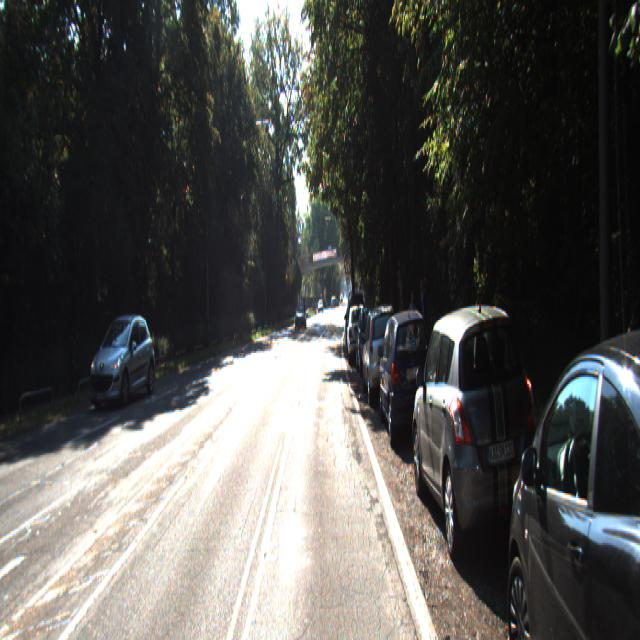Car: (500, 313, 640, 638), (410, 305, 548, 577), (378, 305, 436, 447), (88, 310, 156, 408), (361, 305, 404, 409), (355, 303, 385, 377), (346, 301, 369, 361), (295, 295, 307, 323)
